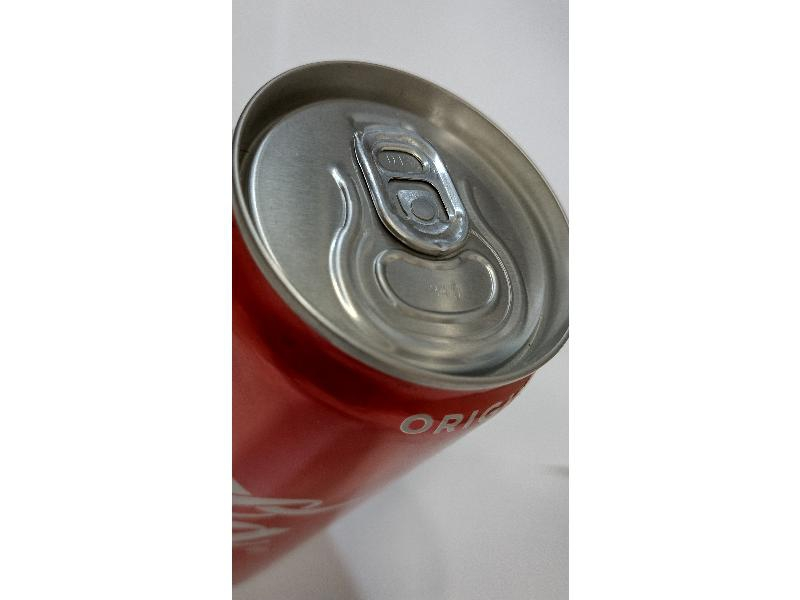can: (240, 53, 565, 590)
